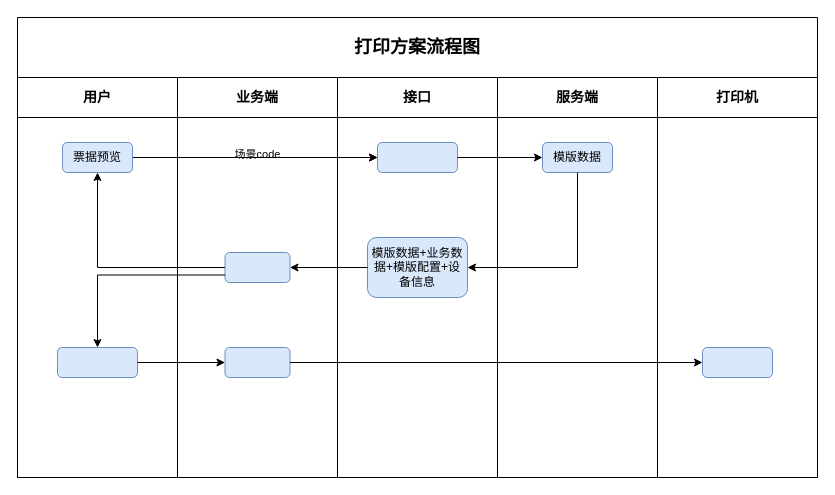
The diagram is 835 pixels wide and 495 high, and some of its shapes have lost their labels. The shapes that lost their labels are listed below. From the top down, each one's centre as x and y in pixels, then its label:
At (x=417, y=157): "根据场景code获取相关数据".
At (x=257, y=267): "编译库模块".
At (x=97, y=362): "用户打印".
At (x=257, y=362): "打印机连接库".
At (x=737, y=362): "打印成功".
